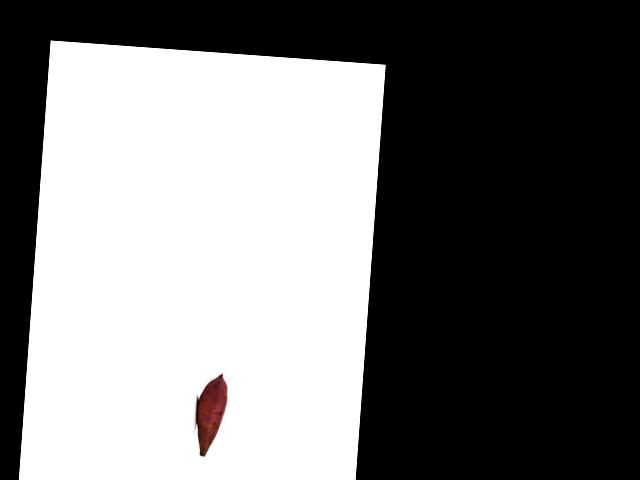sweet_potato: (195, 371, 228, 457)
